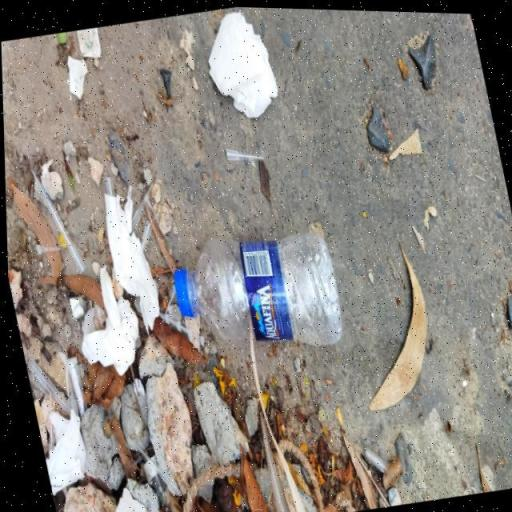plastic: (162, 214, 348, 369)
